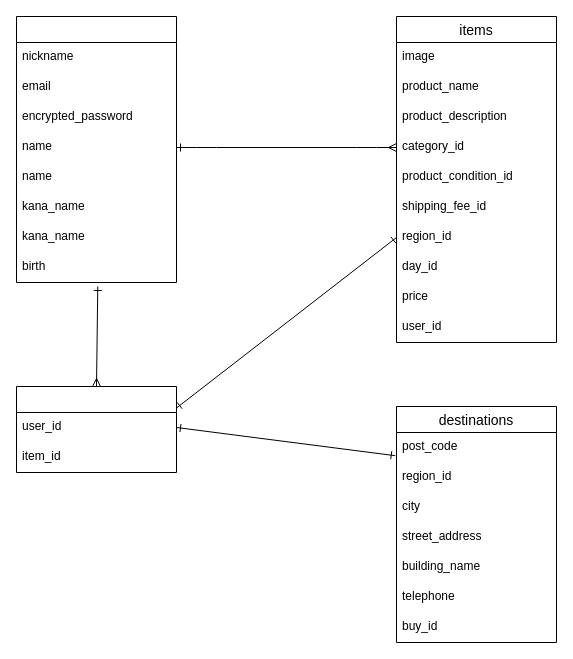
Image size: 573x659. Some labels were removed from this diagram. Here are the shapes that lost their labels. From the top down, the box of each, then its label:
(16, 16, 176, 282): users
(16, 386, 176, 472): buys
